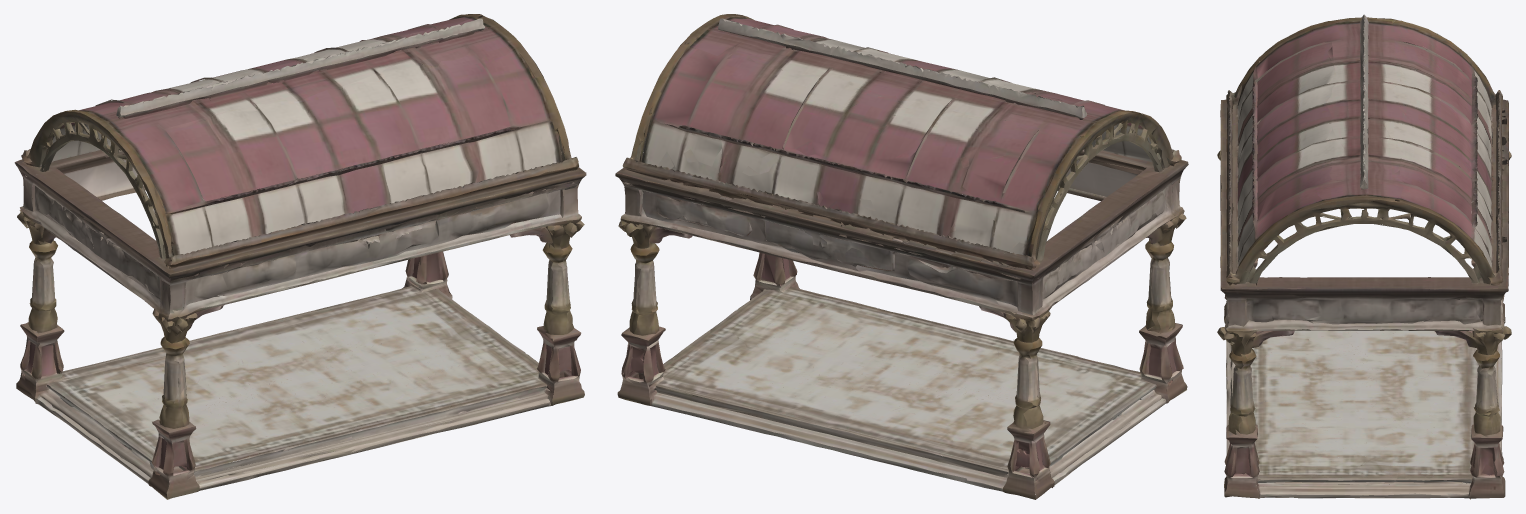
The model's file is park-bumper-hall.glb.
The picture shows the model from 3 angles, left to right: view 1: azimuth 30°, elevation 25°; view 2: azimuth 150°, elevation 25°; view 3: azimuth 270°, elevation 25°; orthographic projection. The views are drawn at different scales.
Visible parts, largest first — view 1: world; view 2: world; view 3: world.
Part boxes in pixels (x1,y1,x2,y2): world: [14, 14, 586, 499]; world: [615, 14, 1188, 499]; world: [1217, 14, 1511, 499].
Size of the model in its own units: 0.8004 by 0.6111 by 0.5258.
Materials: 1 (1 with a texture image).
